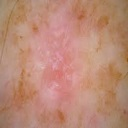Carcinoma: (14, 18, 117, 114)
